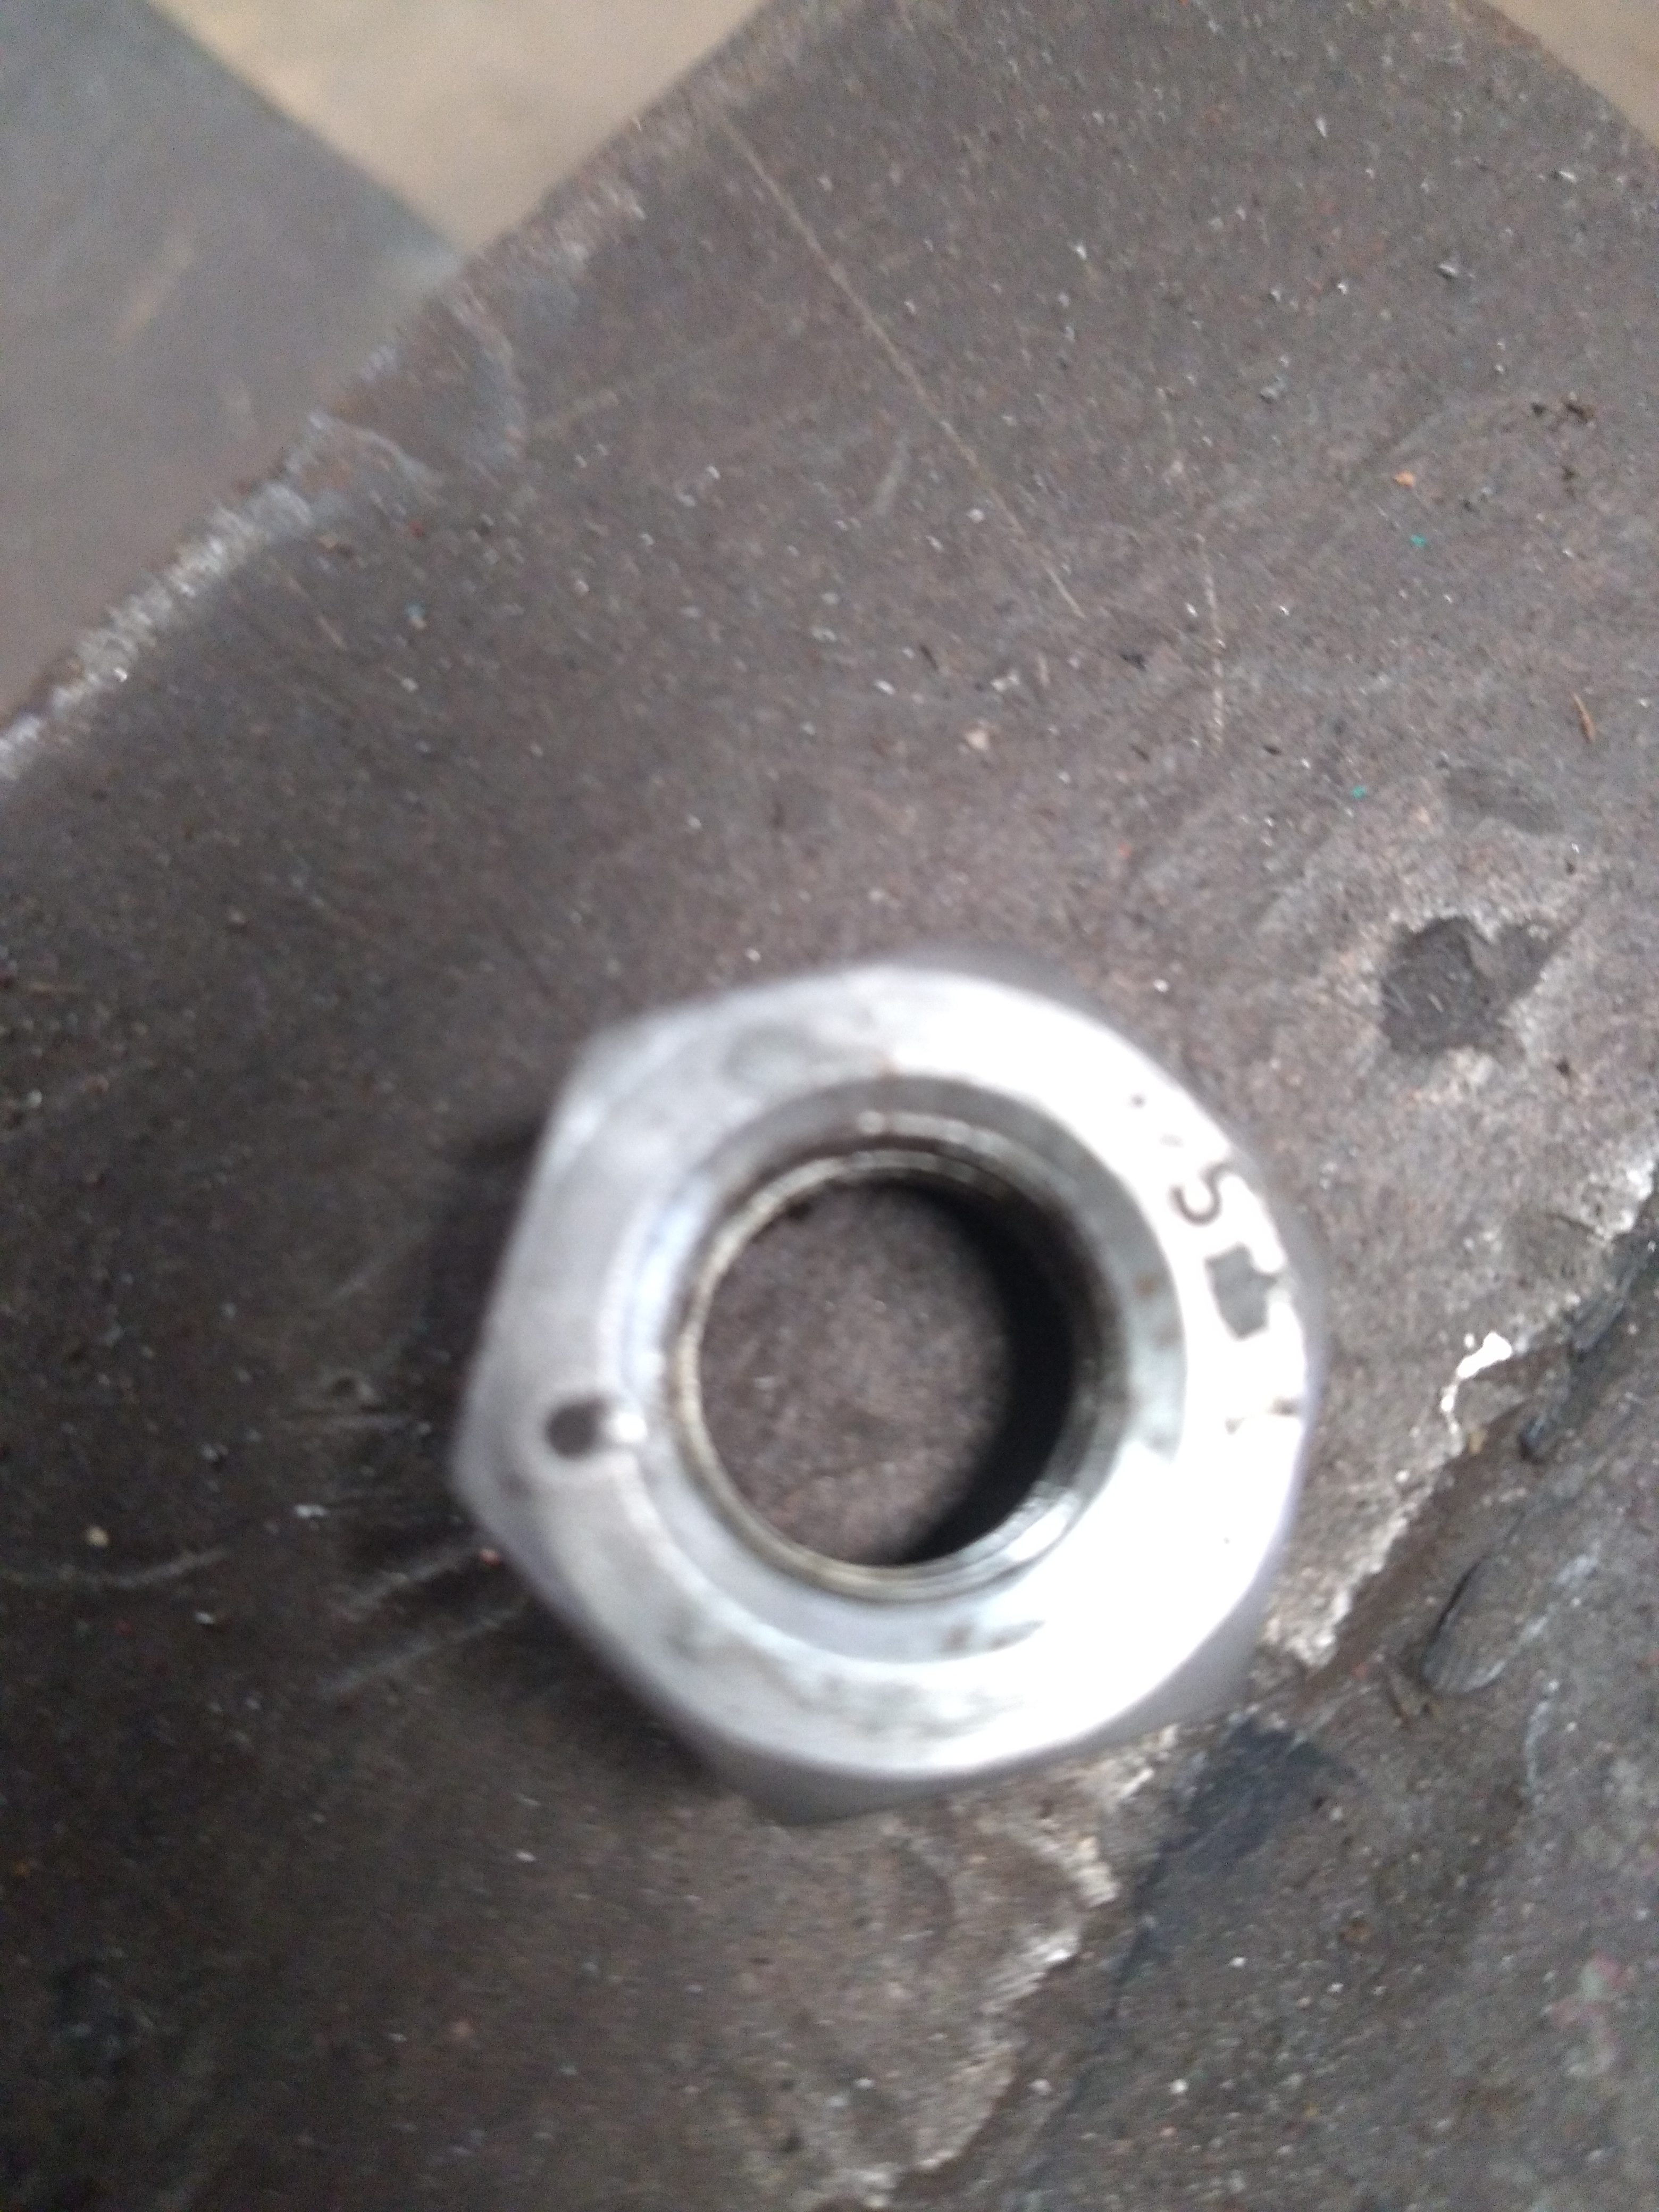Thread: (622, 1059, 1244, 1641)
